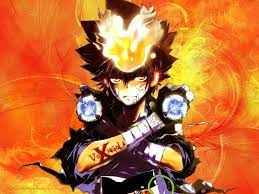Tsuna: (90, 9, 169, 107)
